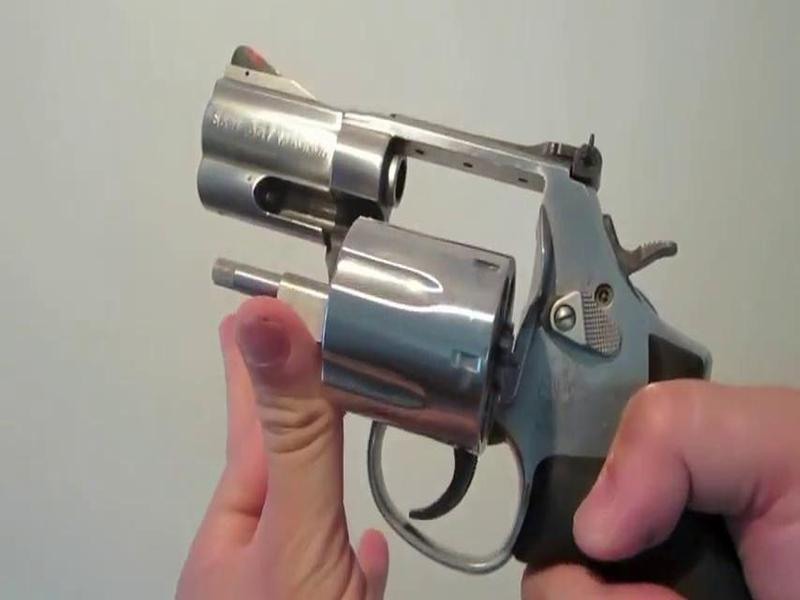Revolver: (179, 24, 771, 591)
